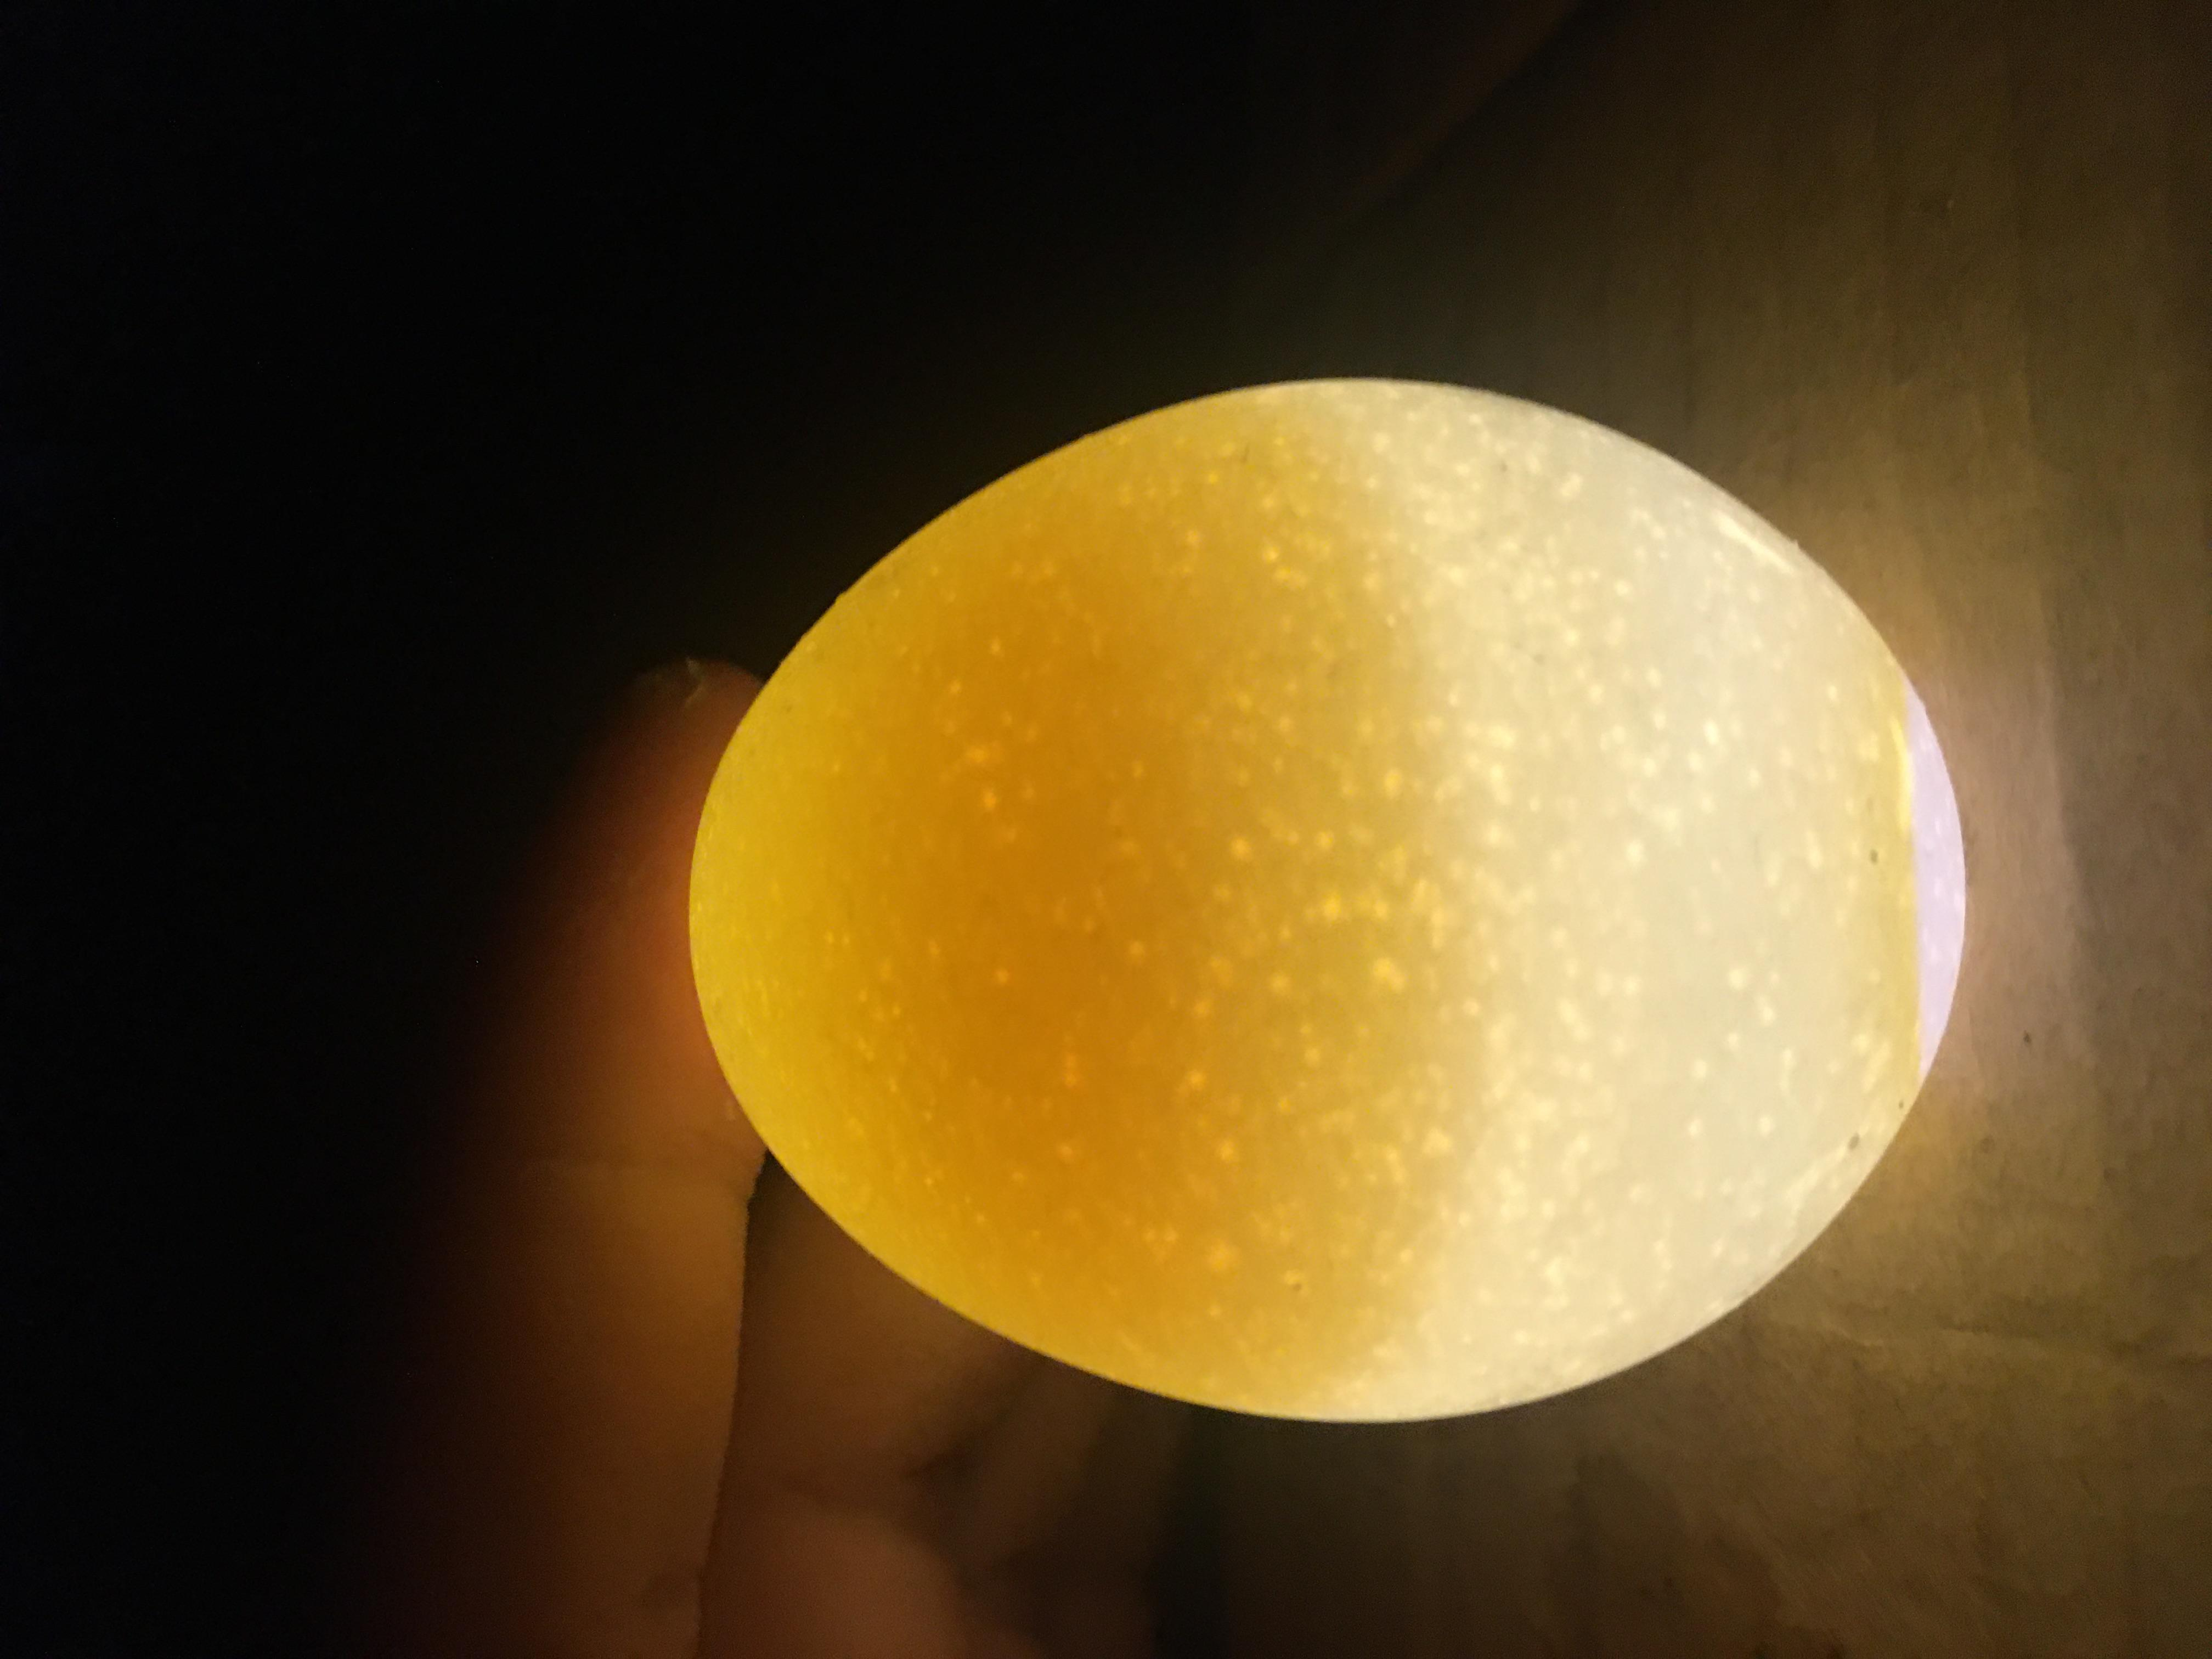A - Good: (319, 500, 1712, 1493)
